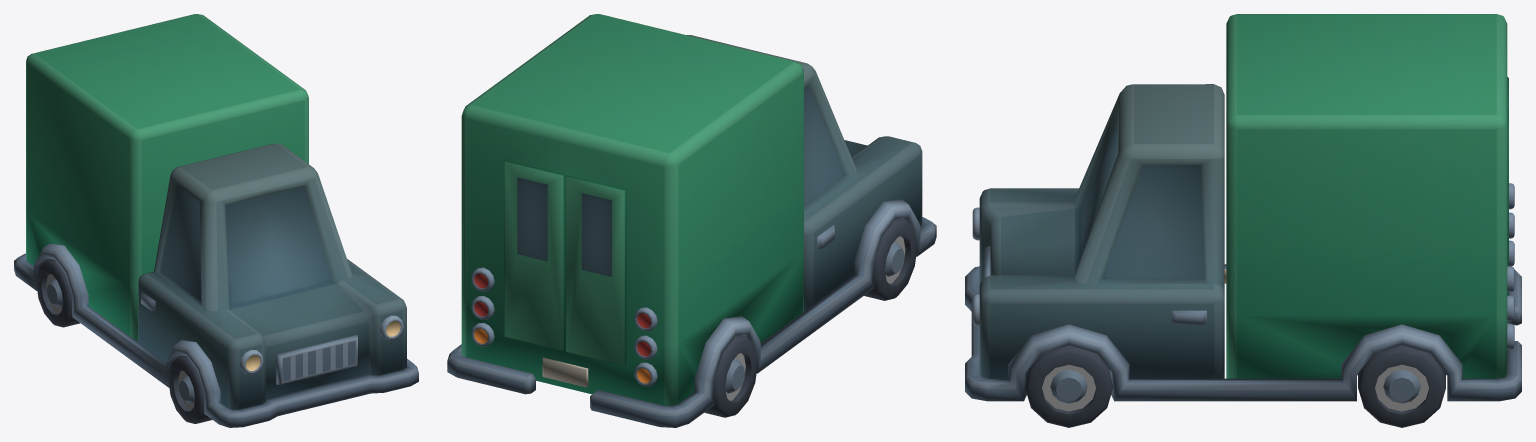
Rendered from Vehicle_002_Linked.fbx.
3 views of the same model, side by side, from view 1: azimuth 30°, elevation 25°; view 2: azimuth 150°, elevation 25°; view 3: azimuth 270°, elevation 25° (orthographic). The views are drawn at different scales.
Parts seen in each view (by area): view 1: Vehicle_002, Wheel_RR, Wheel_FR; view 2: Vehicle_002, Wheel_FR, Wheel_RR; view 3: Vehicle_002, Wheel_RL, Wheel_FL.
Part boxes in pixels (x1,y1,x2,y2): Vehicle_002: (14, 14, 418, 427); Wheel_RR: (36, 259, 80, 327); Wheel_FR: (168, 355, 212, 423); Vehicle_002: (447, 14, 936, 427); Wheel_FR: (864, 218, 917, 300); Wheel_RR: (704, 335, 757, 417); Vehicle_002: (965, 14, 1521, 401); Wheel_RL: (1358, 345, 1445, 427); Wheel_FL: (1025, 345, 1112, 427).
Size of the model in its own units: 205 by 386 by 231.
